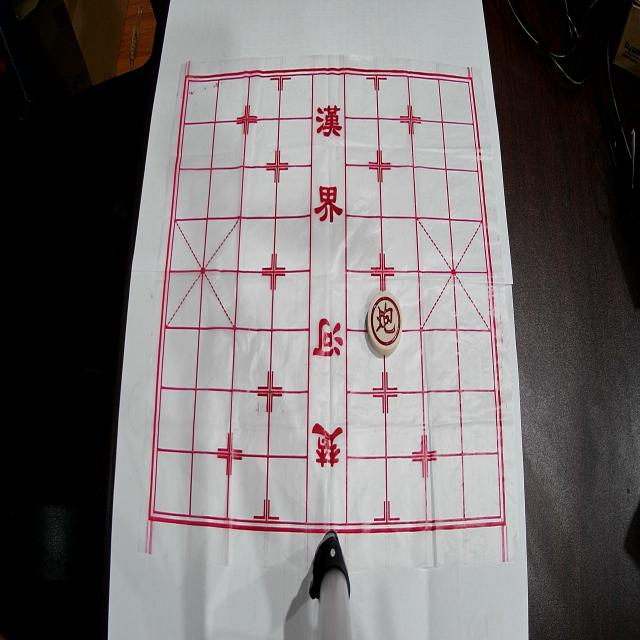red-cannon: (368, 292, 402, 355)
